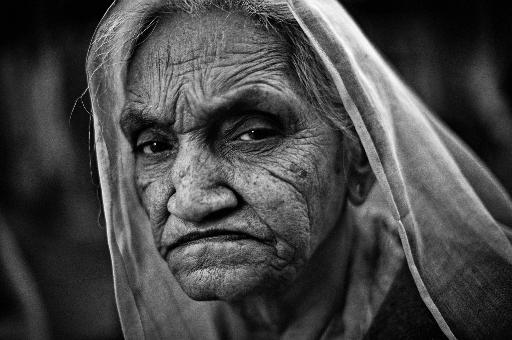left_eye: (230, 117, 288, 147)
left_lip_corner: (252, 231, 274, 250)
right_eye: (136, 139, 177, 160)
right_lip_corner: (163, 236, 188, 257)
